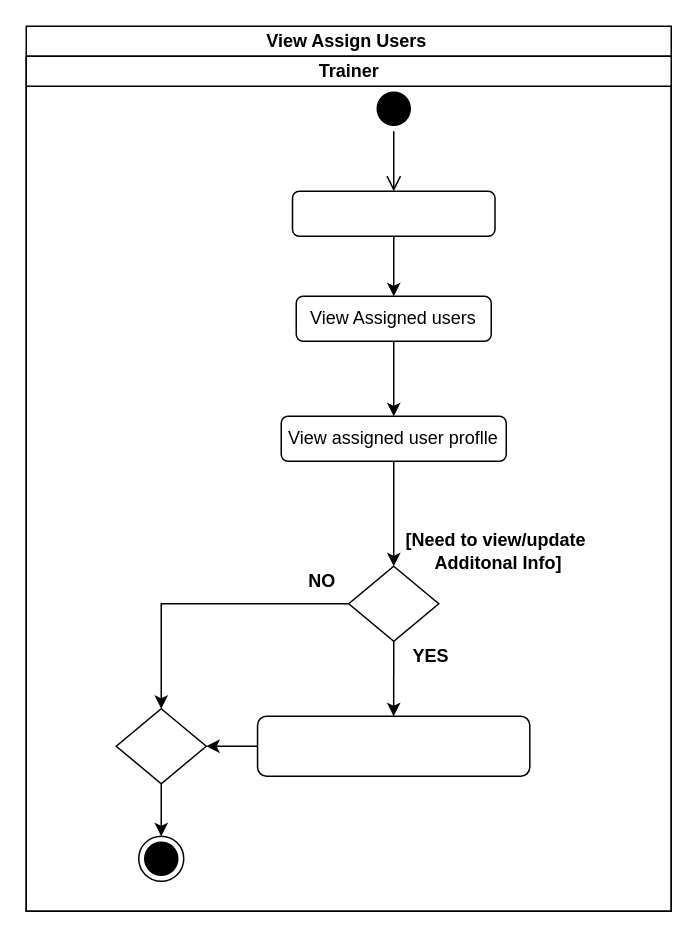
Image size: 698x938. Some labels were removed from this diagram. The centre of each missing label's shape, as x and y in pixels:
Access assigned user details from dashboard: (x=393, y=213)
View/update additional informaton of the relavent user: (x=393, y=745)
